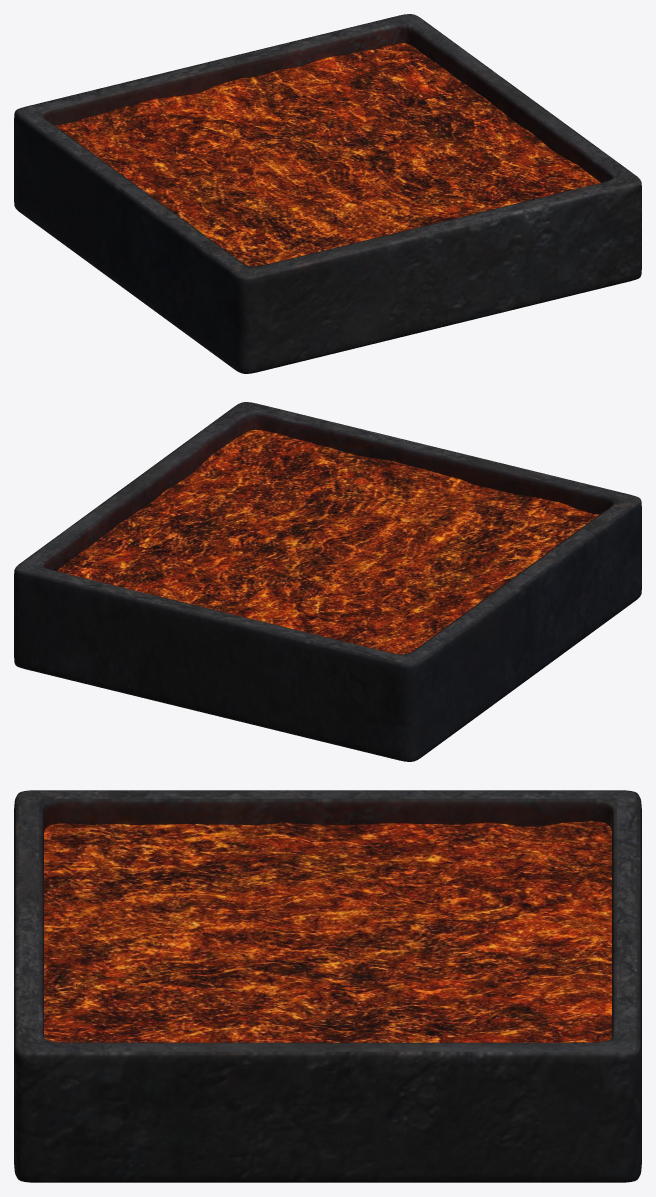
The model's file is lava.fbx.
3 renders of one model, top to bottom at view 1: azimuth 30°, elevation 25°; view 2: azimuth 150°, elevation 25°; view 3: azimuth 270°, elevation 25°, orthographic. The views are drawn at different scales.
Visible parts, largest first — view 1: Plane.002, lava; view 2: Plane.002, lava; view 3: lava, Plane.002.
Part boxes in pixels (box(x1,y1,x2,y2)): Plane.002: box(14, 14, 641, 373); lava: box(55, 43, 600, 266); Plane.002: box(14, 402, 641, 761); lava: box(56, 430, 599, 654); lava: box(44, 821, 611, 1042); Plane.002: box(14, 790, 641, 1182).
Size of the model in its own units: 617 by 143 by 617.
